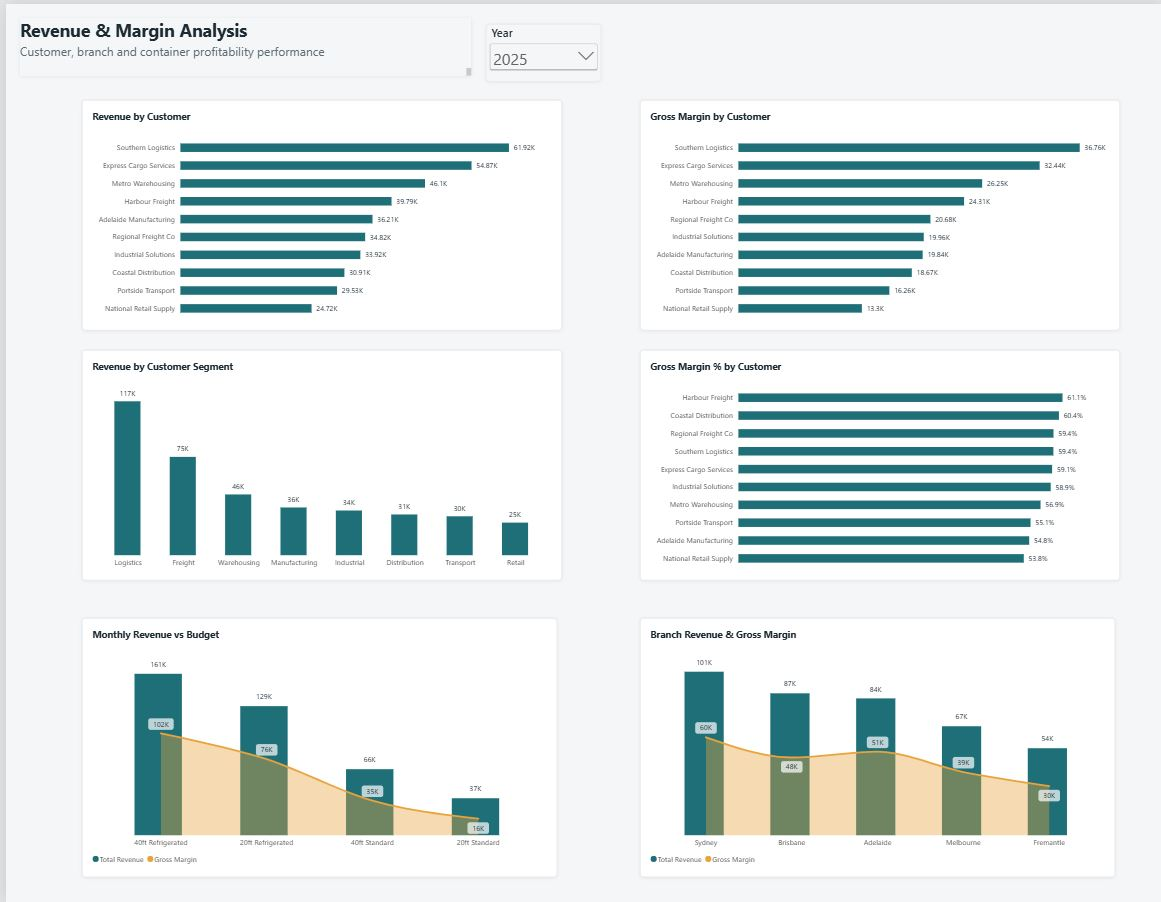

This screenshot's page, from the dashboard's own definition file:
{"tool":"powerbi","page":{"name":"Revenue & Margin","canvas":[1931,1500],"ordinal":1},"visuals":[{"type":"textbox","title":"Revenue & Margin Analysis","box":[24,24,752,96],"z":0},{"type":"slicer","fields":{"Values":["DateTable.Year"]},"box":[800,32,192,96],"z":1000},{"type":"clusteredBarChart","title":"Revenue by Customer","fields":{"Y":["_Measures.Total Revenue"],"Category":["vw_financial_performance.customer_name"]},"box":[128,160,800,384],"z":2000},{"type":"clusteredBarChart","title":"Gross Margin by Customer","fields":{"Category":["vw_financial_performance.customer_name"],"Y":["_Measures.Gross Margin"]},"box":[1056,160,800,384],"z":3000},{"type":"clusteredBarChart","title":"Gross Margin % by Customer","fields":{"Category":["vw_financial_performance.customer_name"],"Y":["_Measures.Gross Margin %"]},"box":[1056,576,800,384],"z":4000},{"type":"clusteredColumnChart","title":"Revenue by Customer Segment","fields":{"Category":["vw_financial_performance.customer_segment"],"Y":["_Measures.Total Revenue"]},"box":[128,576,800,384],"z":5000},{"type":"lineClusteredColumnComboChart","title":"Monthly Revenue vs Budget","fields":{"Category":["vw_financial_performance.container_type"],"Y":["_Measures.Total Revenue"],"Y2":["_Measures.Gross Margin"]},"box":[128,1024,792,432],"z":6000},{"type":"lineClusteredColumnComboChart","title":"Branch Revenue & Gross Margin","fields":{"Category":["vw_financial_performance.branch_name"],"Y":["_Measures.Total Revenue"],"Y2":["_Measures.Gross Margin"]},"box":[1056,1024,792,432],"z":7000}]}

Visuals, with their boxes in screenshot pixels (x1, y1, x2, y2), scaled from the page's 1931x1500 canvas onto the 1161x902 screenshot:
"Revenue & Margin Analysis" textbox: pyautogui.locateOnScreen(14, 14, 467, 72)
slicer - DateTable.Year: pyautogui.locateOnScreen(481, 19, 596, 77)
"Revenue by Customer" clusteredBarChart: pyautogui.locateOnScreen(77, 96, 558, 327)
"Gross Margin by Customer" clusteredBarChart: pyautogui.locateOnScreen(635, 96, 1116, 327)
"Gross Margin % by Customer" clusteredBarChart: pyautogui.locateOnScreen(635, 346, 1116, 577)
"Revenue by Customer Segment" clusteredColumnChart: pyautogui.locateOnScreen(77, 346, 558, 577)
"Monthly Revenue vs Budget" lineClusteredColumnComboChart: pyautogui.locateOnScreen(77, 616, 553, 876)
"Branch Revenue & Gross Margin" lineClusteredColumnComboChart: pyautogui.locateOnScreen(635, 616, 1111, 876)
